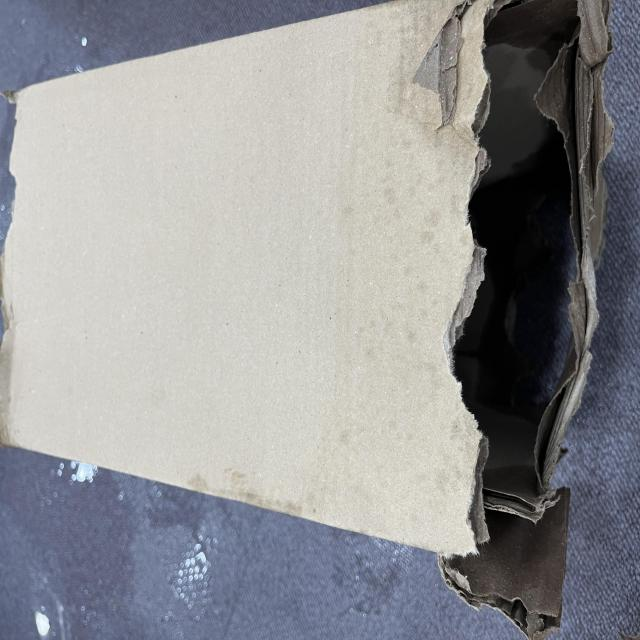damaged: (17, 599, 480, 640)
